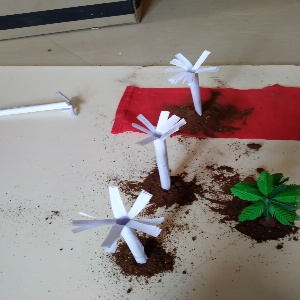plant: (231, 167, 300, 236)
weed: (65, 182, 180, 268), (129, 110, 190, 188), (162, 45, 213, 122), (8, 92, 87, 128)
